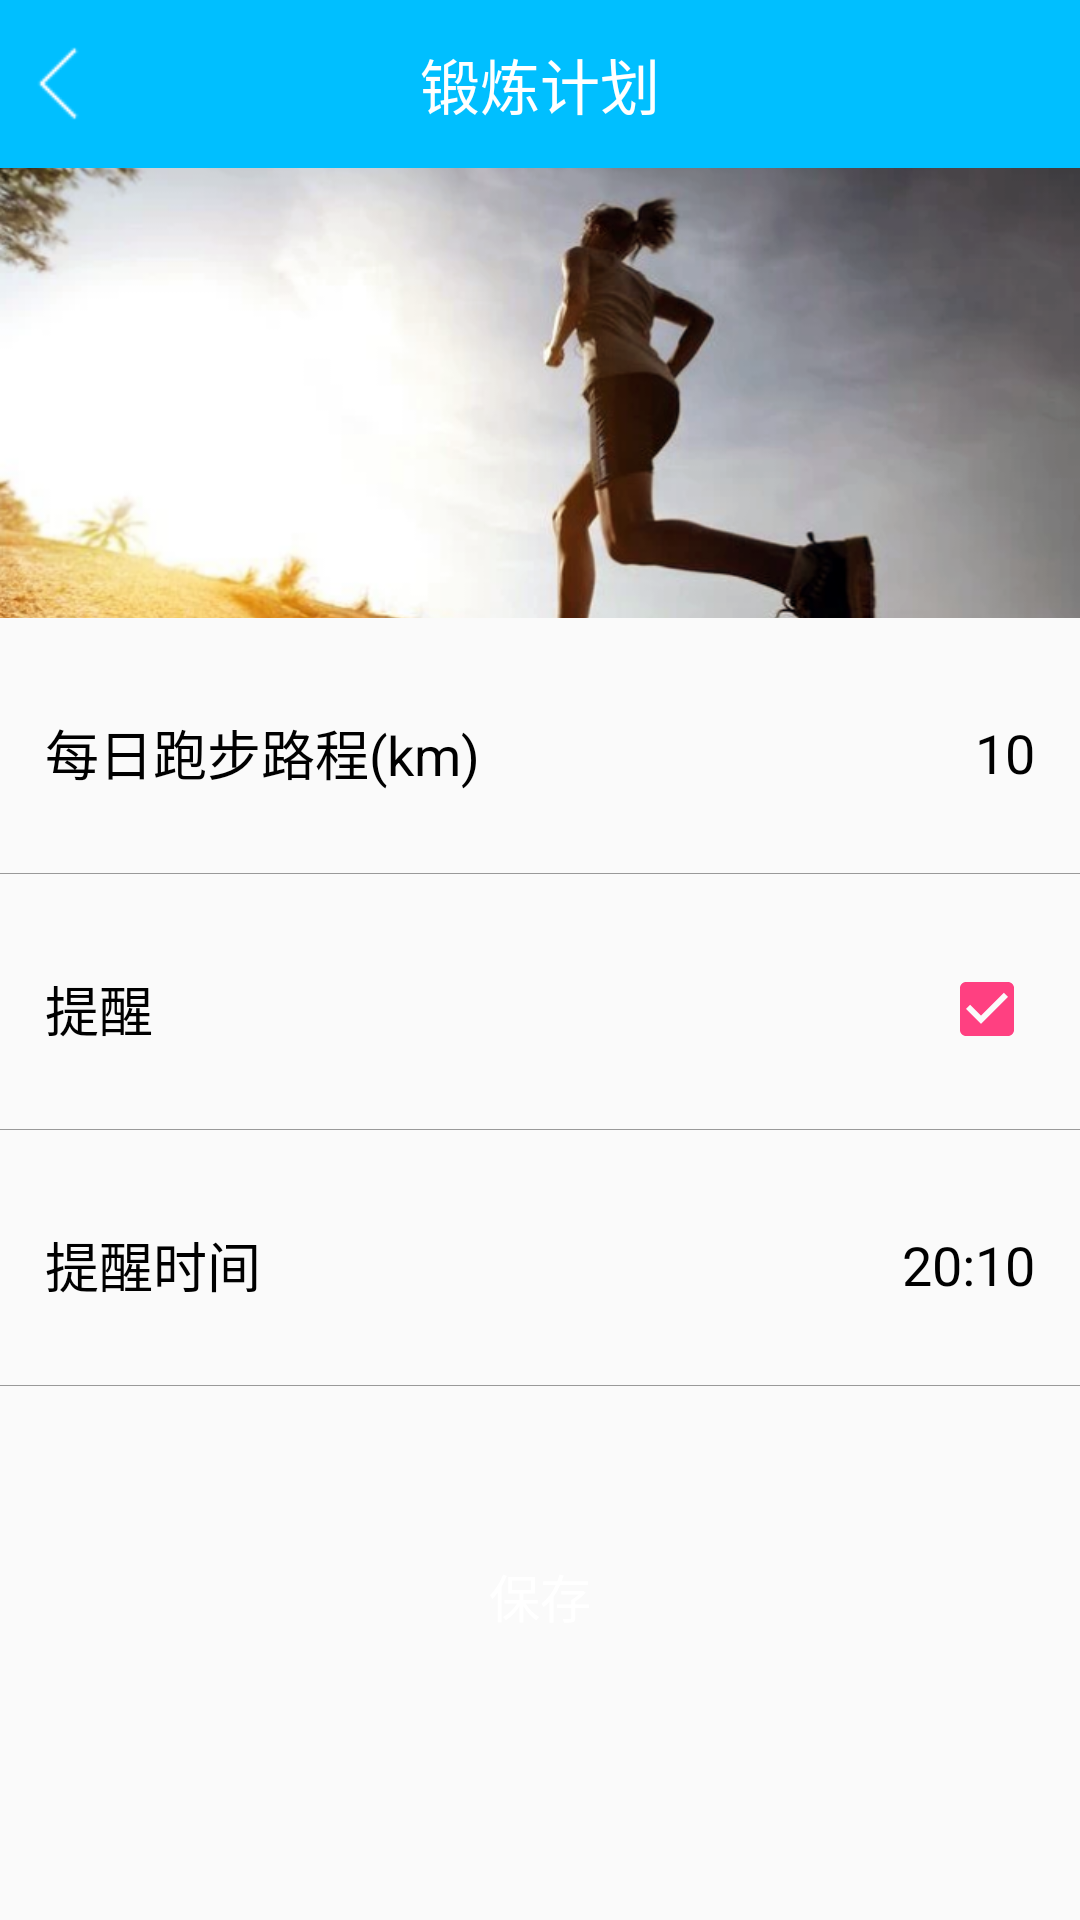

Icons on this 1080px x 1920px Android screen, each with its box as (x1, y1, x2, y2):
return: (39, 47, 78, 120)
